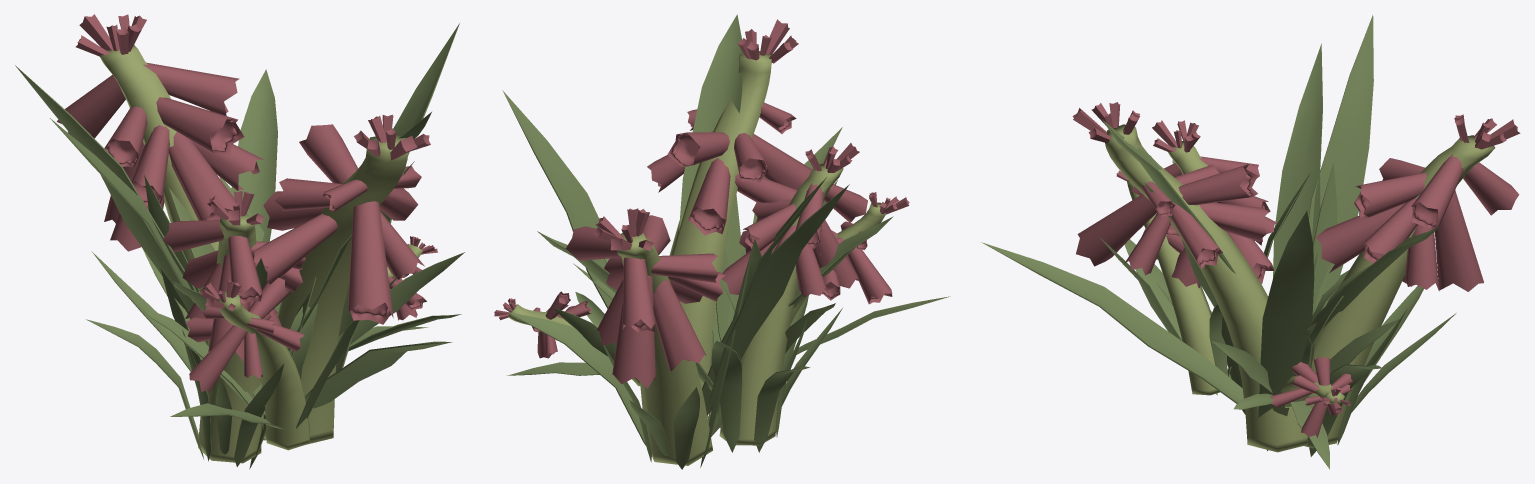
File: PlantB.fbx
The picture shows the model from 3 angles, left to right: view 1: azimuth 30°, elevation 25°; view 2: azimuth 150°, elevation 25°; view 3: azimuth 270°, elevation 25°; orthographic projection. The views are drawn at different scales.
Parts seen in each view (by area): view 1: PlantB; view 2: PlantB; view 3: PlantB.
Boxes of the visible parts, left/top/right/bottom form: PlantB: left=15, top=14, right=464, bottom=469; PlantB: left=494, top=14, right=950, bottom=469; PlantB: left=981, top=15, right=1520, bottom=469.
Size of the model in its own units: 0.7698 by 0.7418 by 1.03.
